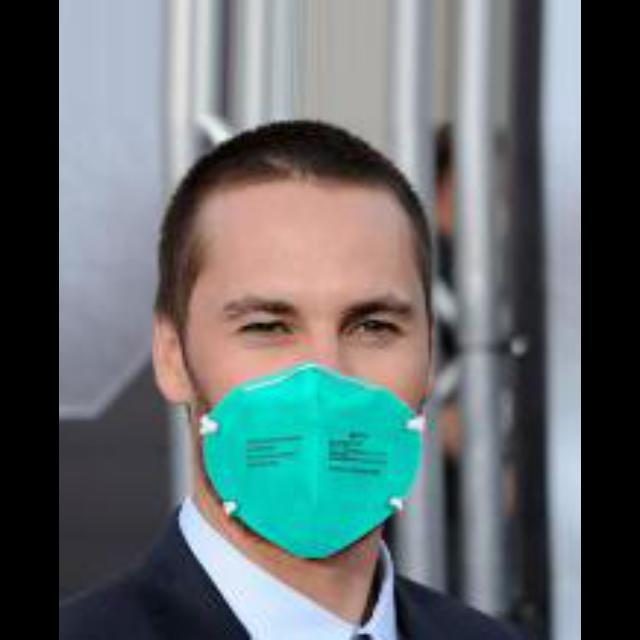suspicion: (154, 108, 468, 558)
